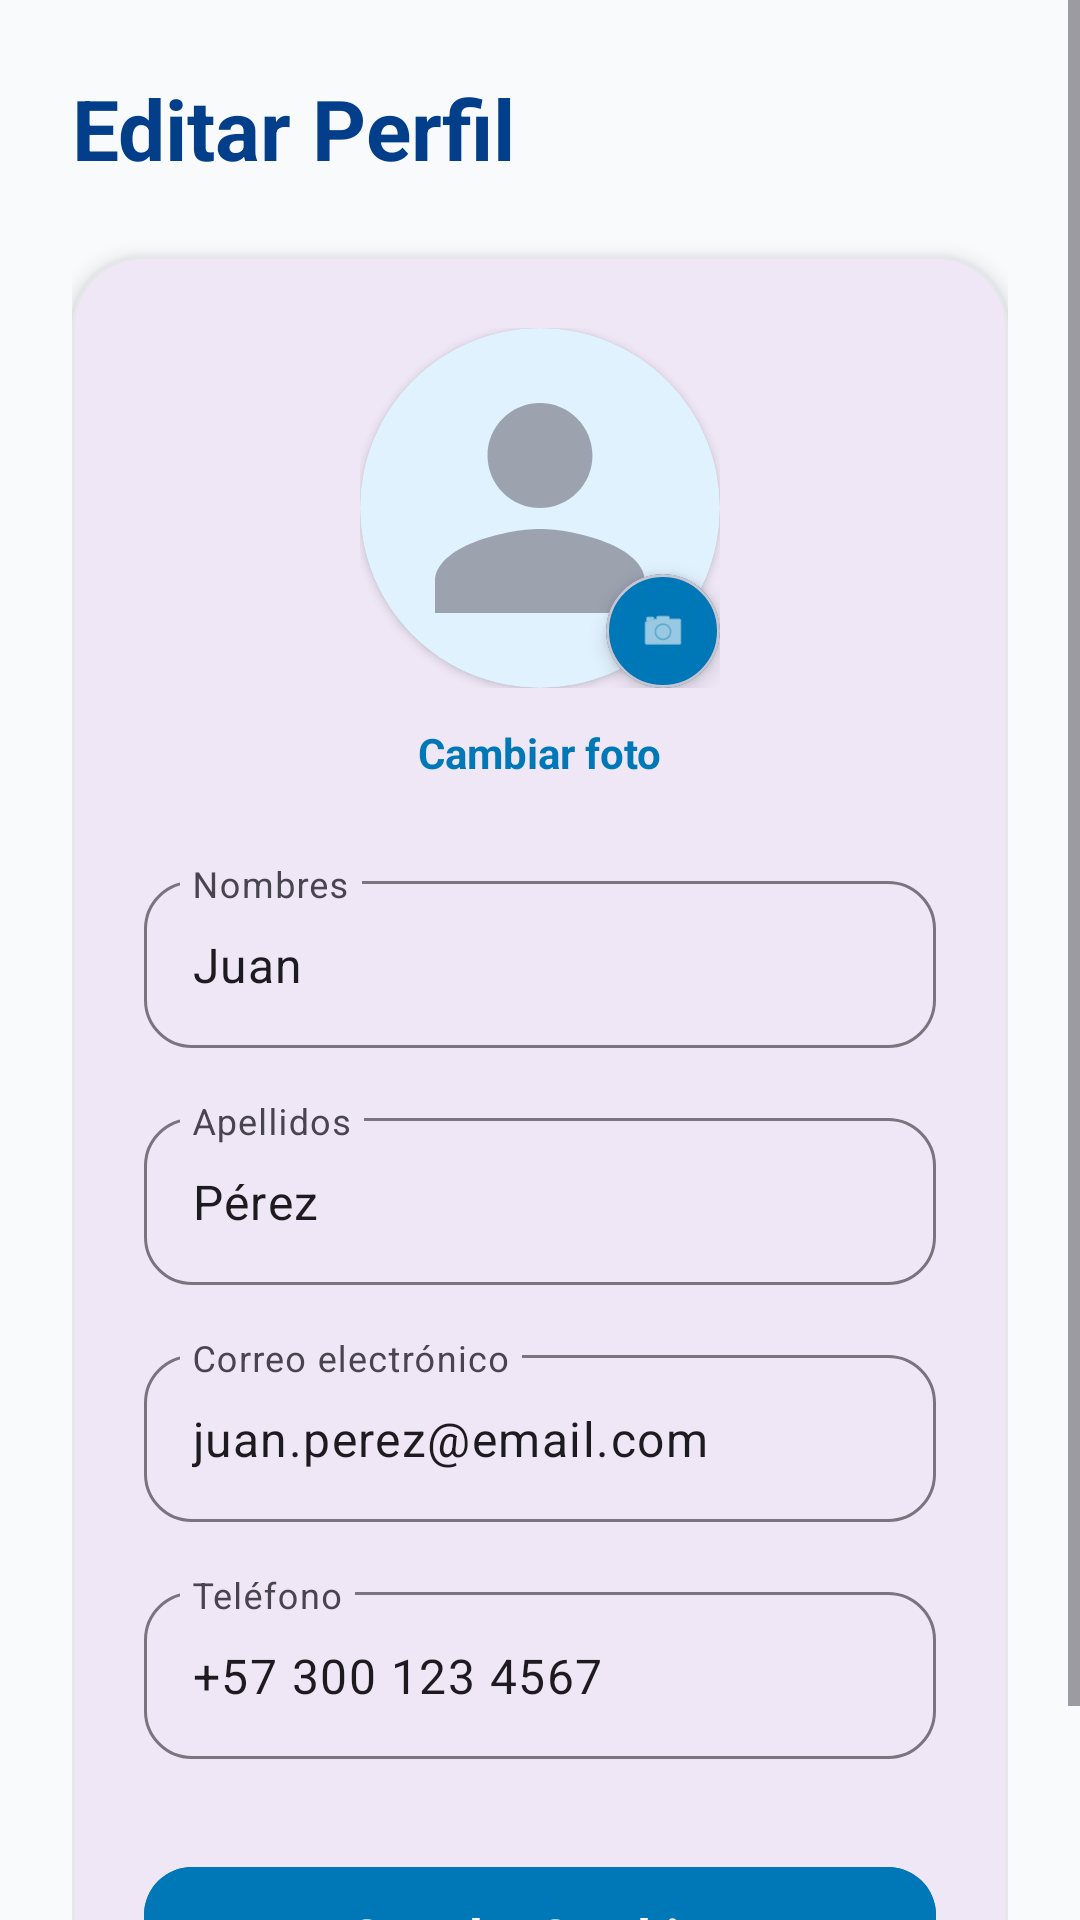

Icons on this 1080w x 1920h Android screen, each with its box as (x1, y1, x2, y2):
camera: (644, 615, 682, 645)
